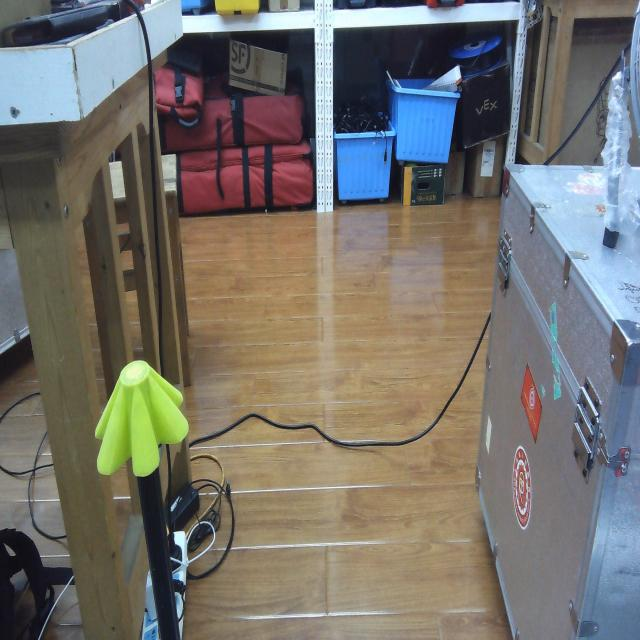Yellow-Stake-Head: (95, 360, 189, 478)
